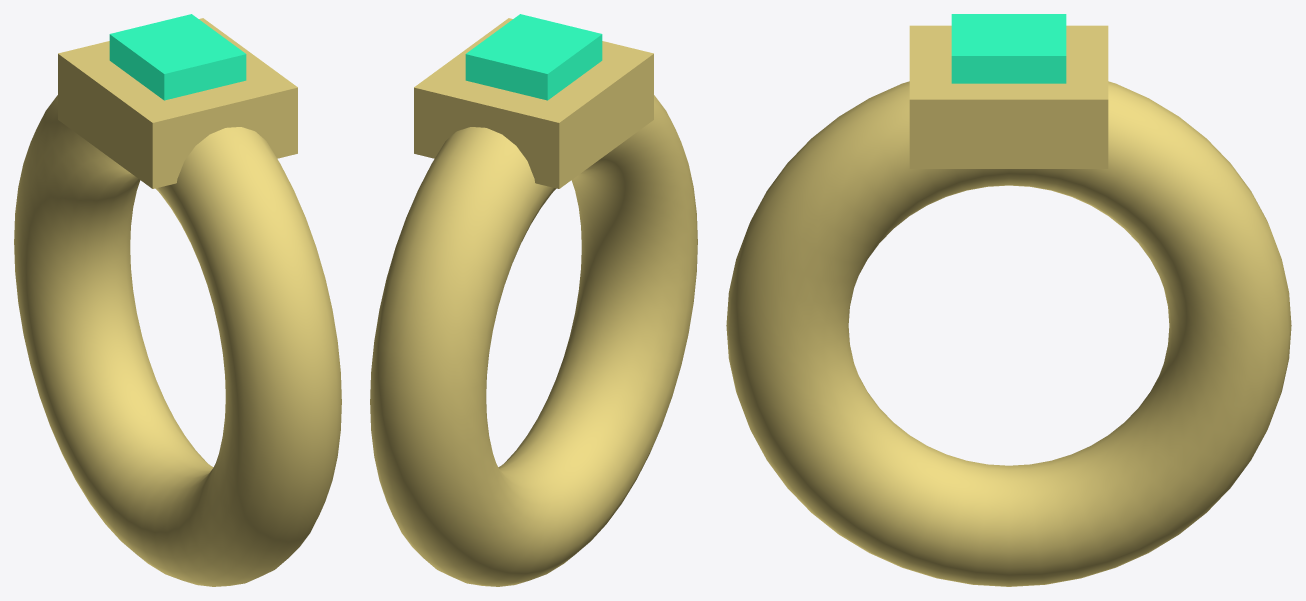
The picture shows the model from 3 angles, left to right: view 1: azimuth 30°, elevation 25°; view 2: azimuth 150°, elevation 25°; view 3: azimuth 270°, elevation 25°; orthographic projection. The views are drawn at different scales.
Parts seen in each view (by area): view 1: part (×3); view 2: part (×3); view 3: part (×3).
Part boxes in pixels (x1,y1,x2,y2): part (×3): [14, 14, 341, 586]; part (×3): [370, 14, 697, 586]; part (×3): [726, 14, 1291, 586].
Bounding box in the file's own units: 0.046 × 0.158 × 0.148.
